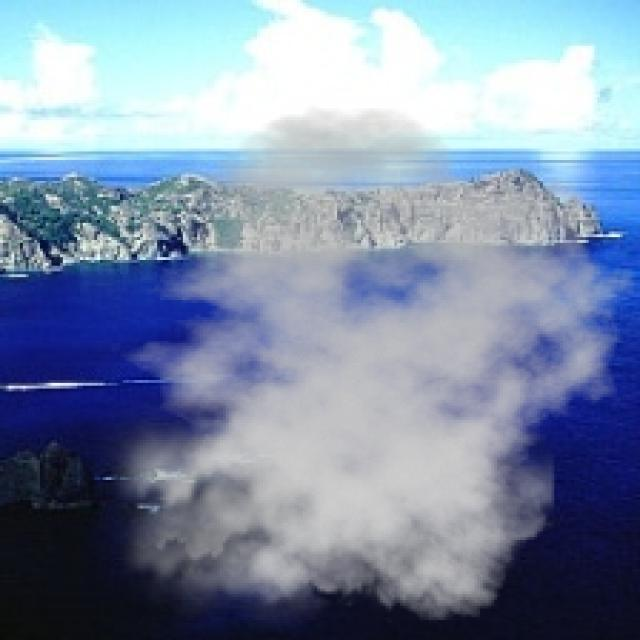Smoke: (88, 105, 638, 638)
